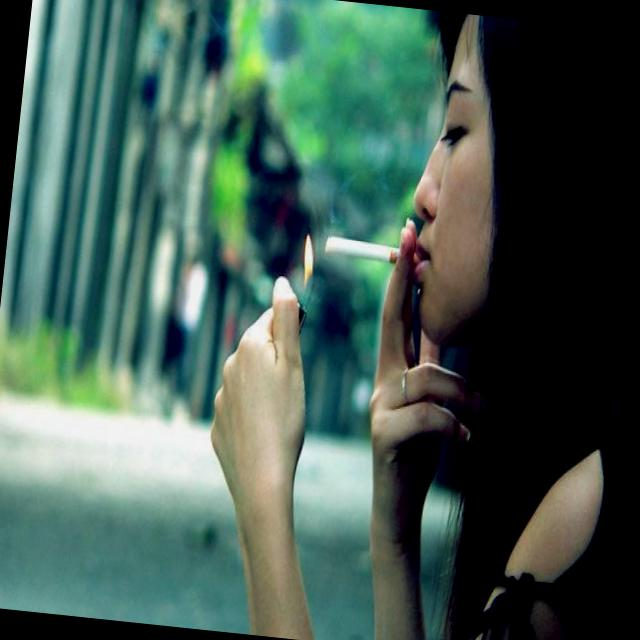cigarette: (301, 215, 432, 302)
